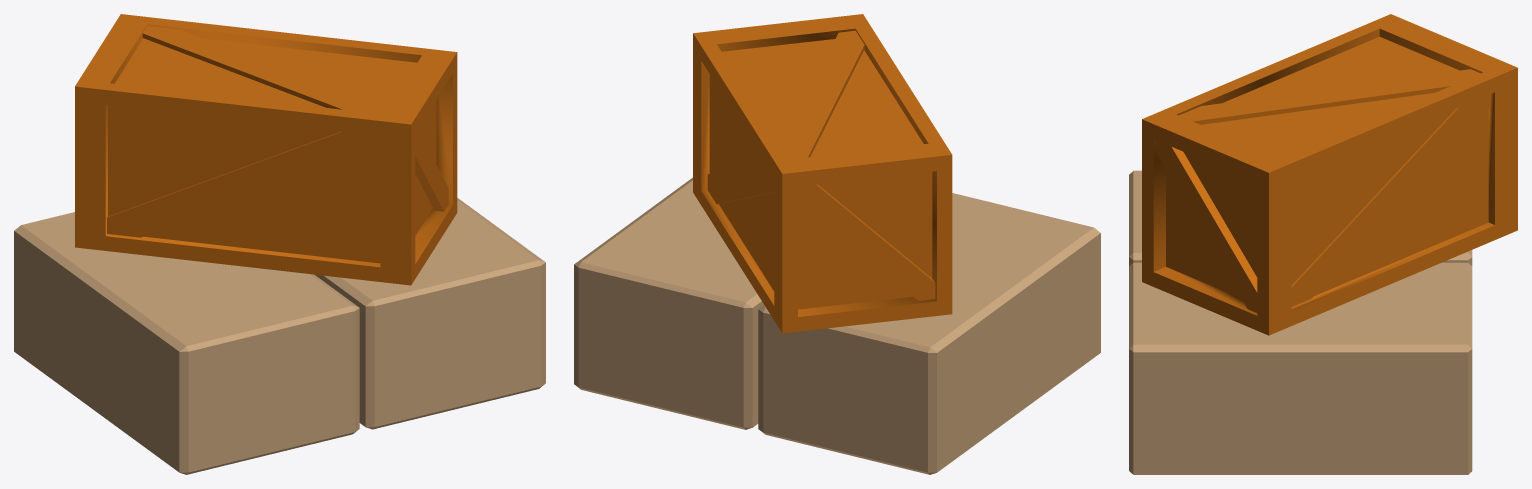
The model's file is Prop_Boxes_H.fbx.
3 renders of one model, left to right at view 1: azimuth 30°, elevation 25°; view 2: azimuth 150°, elevation 25°; view 3: azimuth 270°, elevation 25°, orthographic. The views are drawn at different scales.
Parts seen in each view (by area): view 1: Prop_Boxes_H; view 2: Prop_Boxes_H; view 3: Prop_Boxes_H.
Part boxes in pixels (box(x1,y1,x2,y2)): Prop_Boxes_H: box(14, 14, 545, 474); Prop_Boxes_H: box(574, 14, 1100, 474); Prop_Boxes_H: box(1129, 14, 1517, 474).
Bounding box in the file's own units: 121 × 133 × 101.
